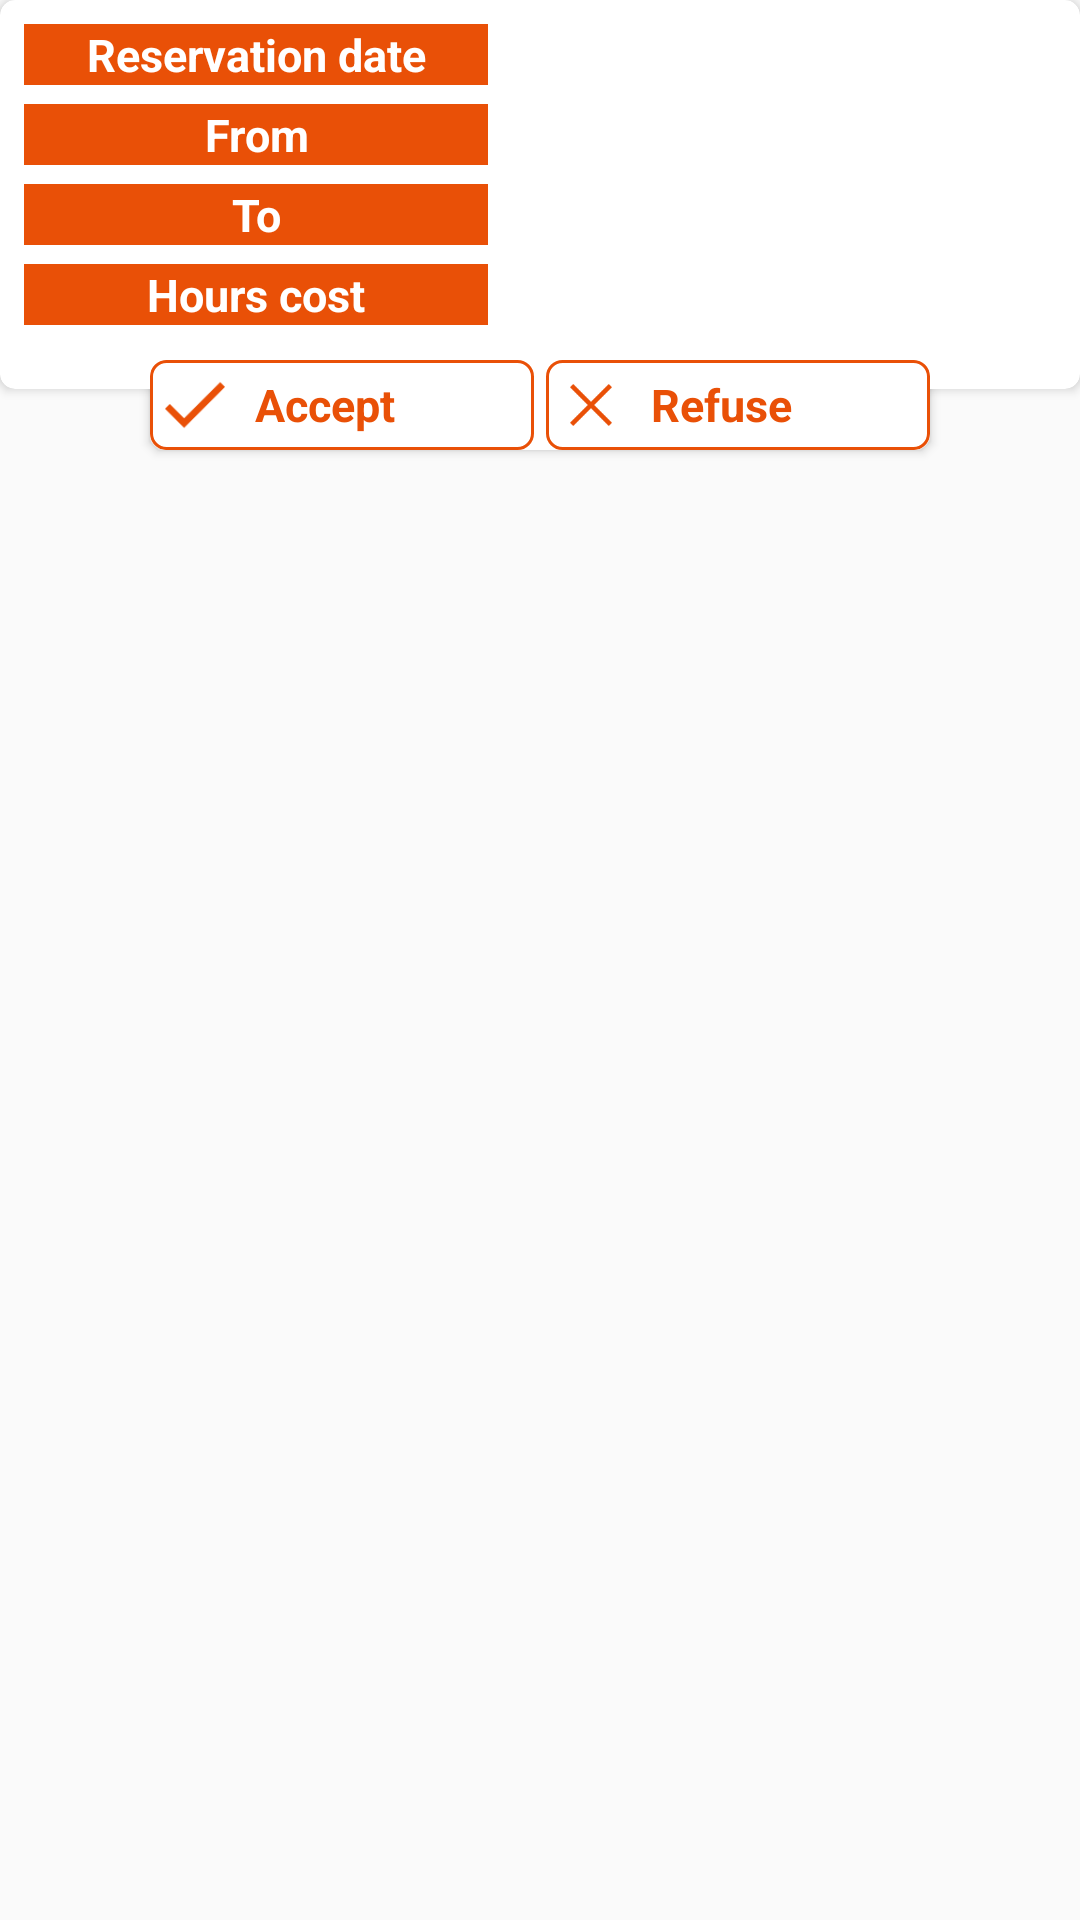

Icons on this 1080*1920 Android screen, each with its box as region(x1, y1, x2, y2):
correct mark: region(150, 360, 240, 450)
